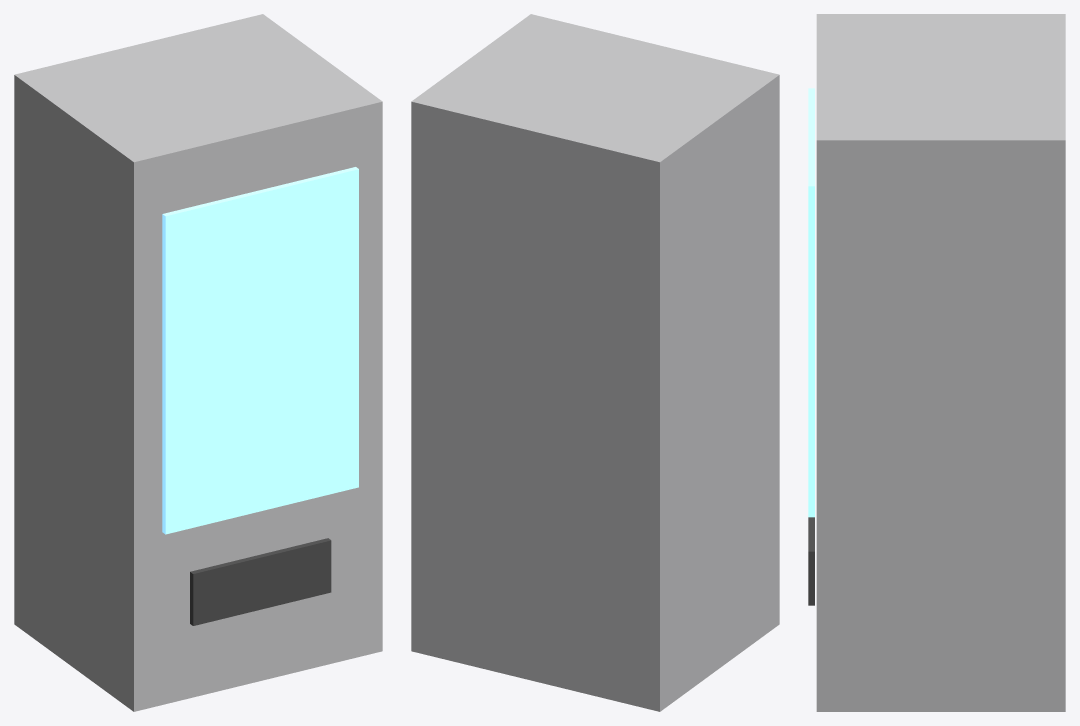
The model's file is vending_machine.glb.
3 renders of one model, left to right at view 1: azimuth 30°, elevation 25°; view 2: azimuth 150°, elevation 25°; view 3: azimuth 270°, elevation 25°, orthographic. The views are drawn at different scales.
Visible parts, largest first — view 1: vending_machine; view 2: vending_machine; view 3: vending_machine.
Part boxes in pixels (box(x1,y1,x2,y2)): vending_machine: box(14, 14, 382, 711); vending_machine: box(411, 14, 779, 711); vending_machine: box(808, 14, 1065, 711).
Size of the model in its own units: 0.9 by 1.9 by 0.775.
